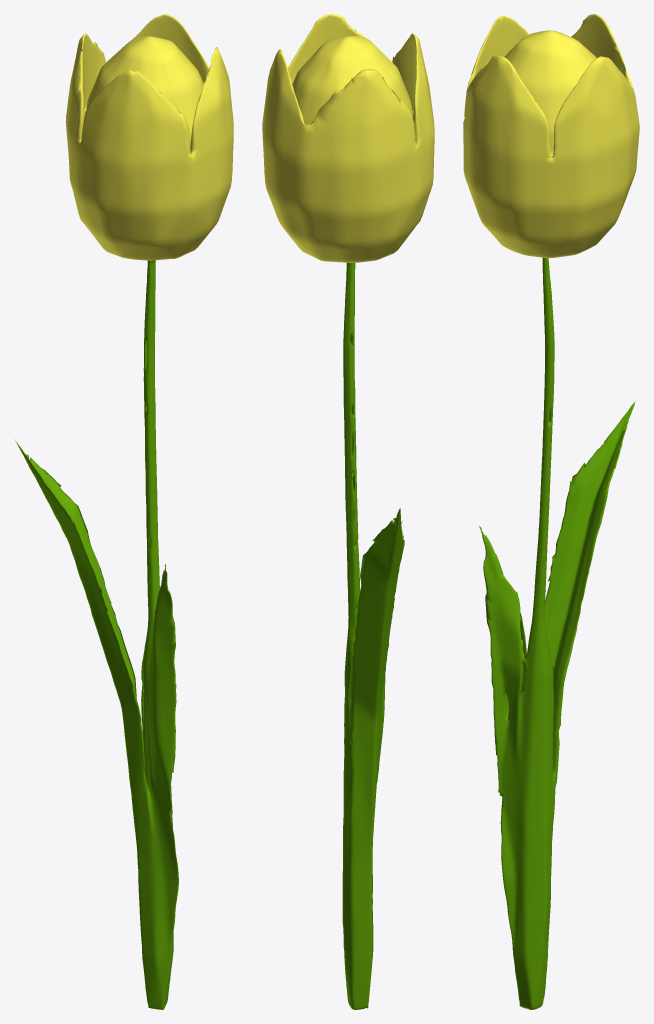
File: yellow.glb
3 views of the same model, side by side, from view 1: azimuth 30°, elevation 25°; view 2: azimuth 150°, elevation 25°; view 3: azimuth 270°, elevation 25° (orthographic).
Visible parts, largest first — view 1: tulip_yellow; view 2: tulip_yellow; view 3: tulip_yellow.
Part boxes in pixels (bbox=[...]): tulip_yellow: bbox=[14, 14, 233, 1009]; tulip_yellow: bbox=[262, 14, 434, 1009]; tulip_yellow: bbox=[463, 14, 639, 1009].
Size of the model in its own units: 0.303 by 1.7 by 0.278.
